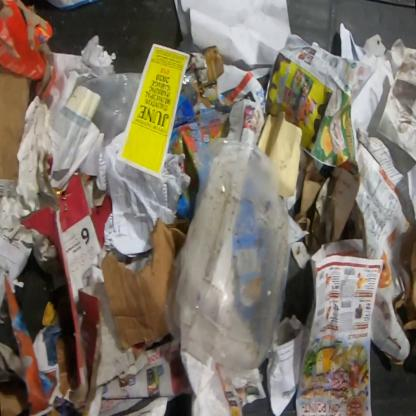cardboard: (20, 168, 149, 416), (100, 217, 192, 351), (0, 0, 56, 104), (0, 64, 32, 182), (293, 158, 326, 250), (185, 46, 224, 108), (393, 229, 415, 335), (0, 380, 31, 415)
rigid_plastic: (163, 138, 293, 376)
soft_plastic: (77, 71, 142, 148), (37, 154, 60, 208), (180, 69, 198, 107), (176, 36, 204, 54)
